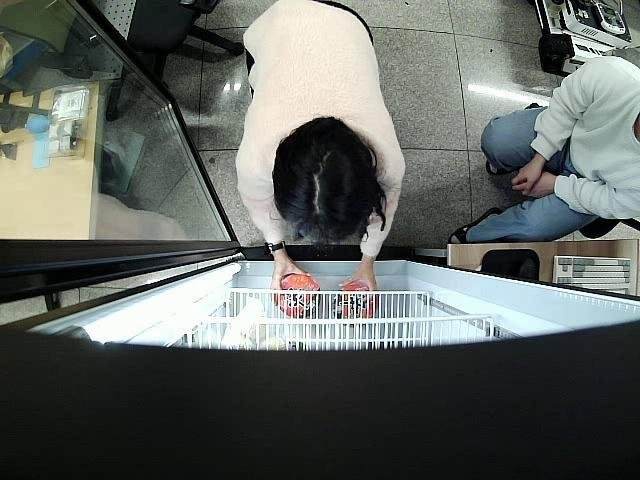01_ShinRamen_L: (277, 273, 322, 320), (330, 285, 378, 328)
